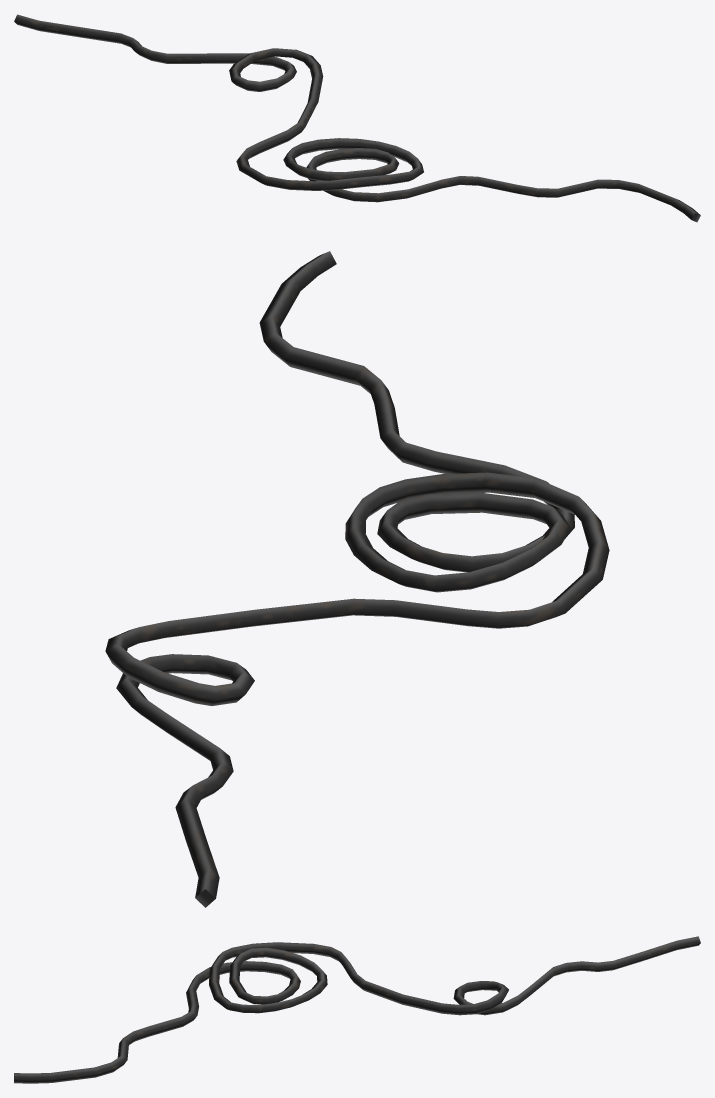
Rendered from cableFloor01_A.fbx.
3 renders of one model, top to bottom at view 1: azimuth 30°, elevation 25°; view 2: azimuth 150°, elevation 25°; view 3: azimuth 270°, elevation 25°, orthographic. The views are drawn at different scales.
Parts seen in each view (by area): view 1: cableFloor01_A; view 2: cableFloor01_A; view 3: cableFloor01_A.
Boxes of the visible parts, x1,y1,x2,y2 form: cableFloor01_A: (14, 14, 700, 222); cableFloor01_A: (105, 251, 609, 907); cableFloor01_A: (14, 936, 700, 1083).
Size of the model in its own units: 192 by 12.51 by 393.
